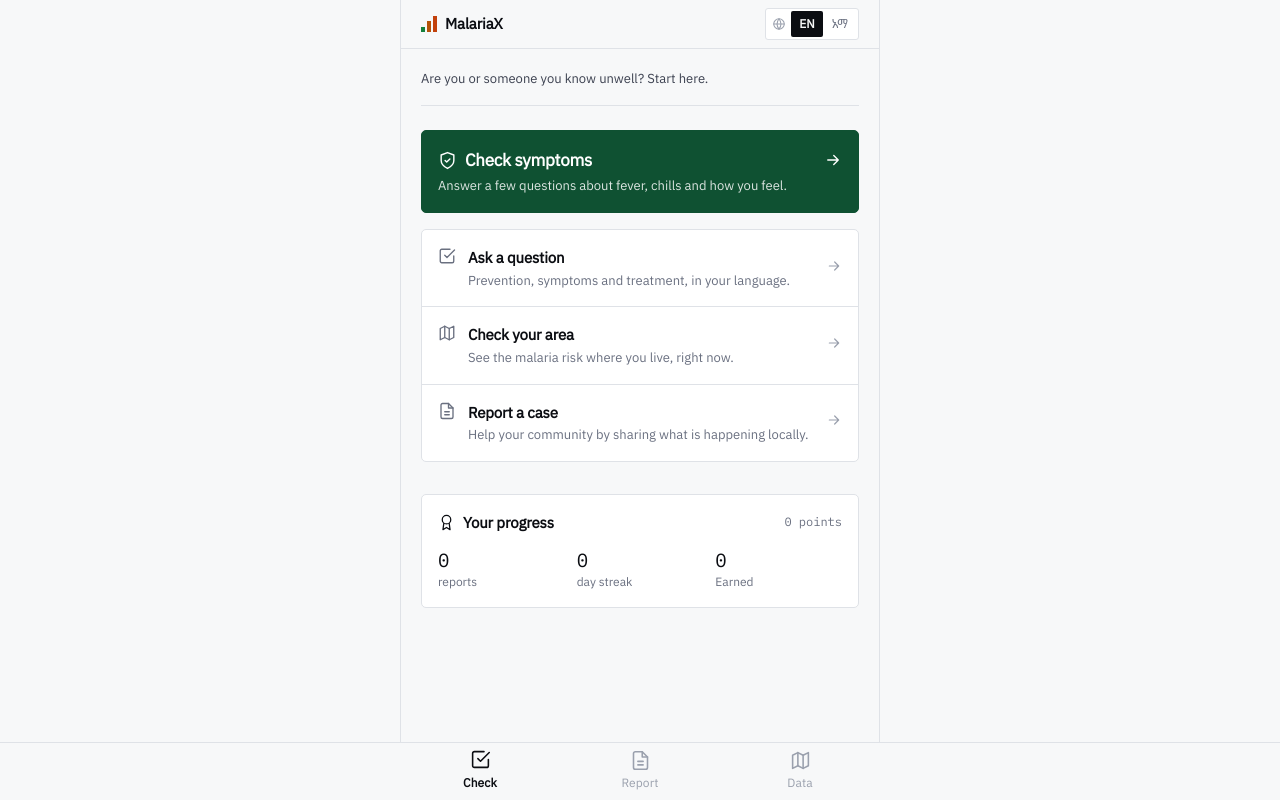
Test case: App shell › switches tabs on click
Click the tab "Report". click: (640, 772)
box: [560,743,720,799]
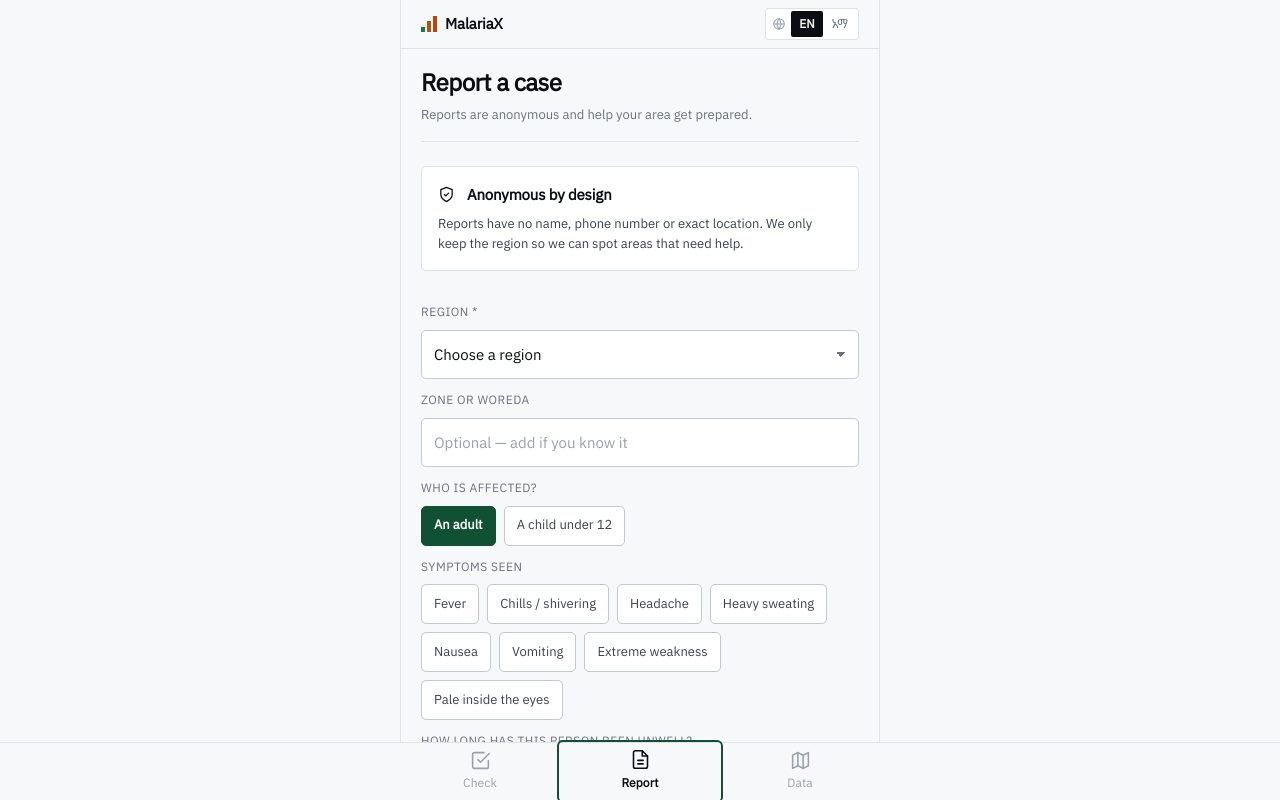
Expected: the text "Reports are anonymous and help your area get prepared." is shown, [421,106,752,123]
